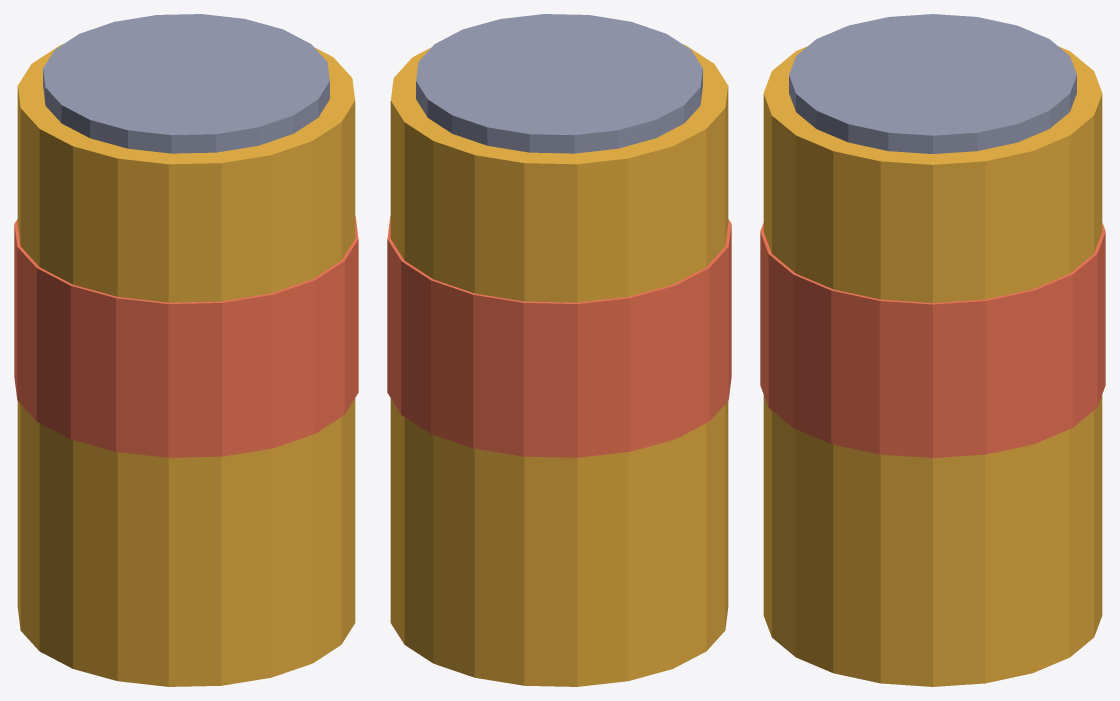
File: soda_can.glb
3 views of the same model, side by side, from view 1: azimuth 30°, elevation 25°; view 2: azimuth 150°, elevation 25°; view 3: azimuth 270°, elevation 25° (orthographic).
Parts seen in each view (by area): view 1: can, band, lid; view 2: can, band, lid; view 3: can, band, lid.
Boxes of the visible parts, bbox=[...] form: can: bbox=[17, 44, 355, 686]; band: bbox=[14, 216, 358, 457]; lid: bbox=[43, 14, 329, 153]; can: bbox=[390, 44, 728, 686]; band: bbox=[387, 216, 731, 457]; lid: bbox=[416, 14, 702, 153]; can: bbox=[763, 46, 1102, 686]; band: bbox=[760, 223, 1105, 457]; lid: bbox=[789, 14, 1076, 153].
Bounding box in the file's own units: 0.204 × 0.352 × 0.204.
